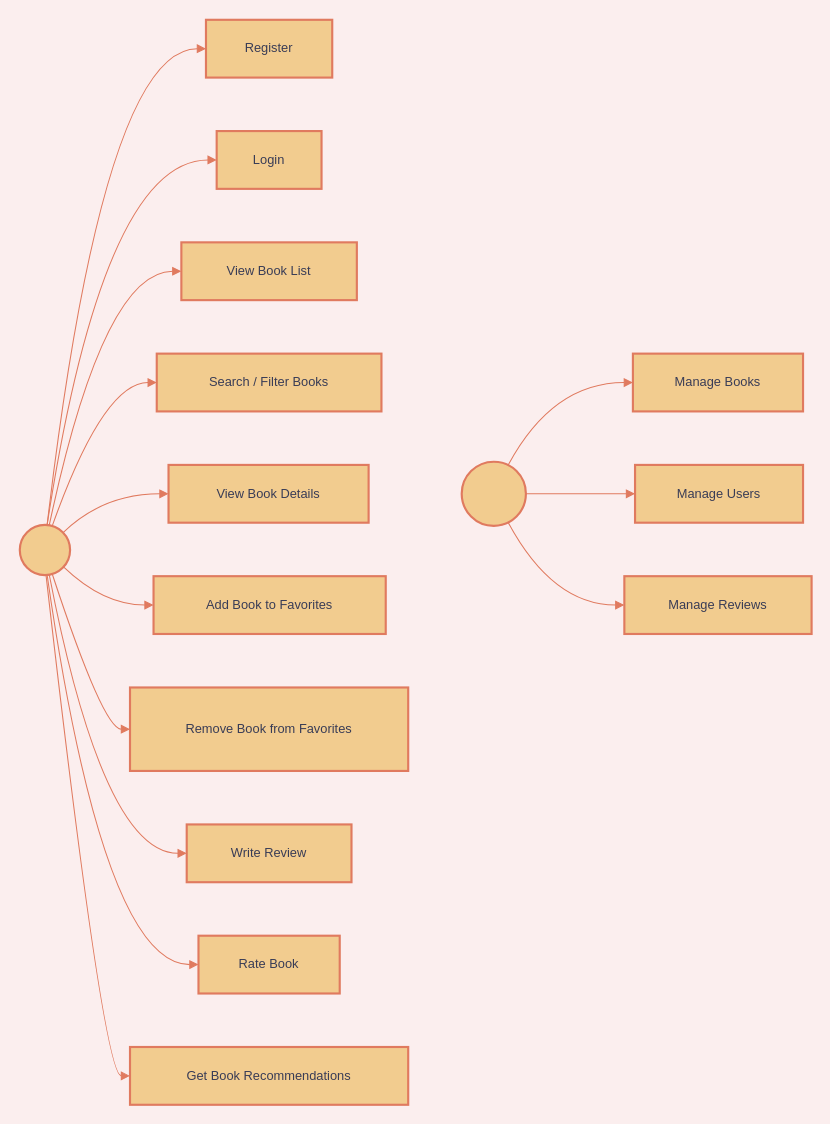
The diagram is 830 pixels wide and 1124 high, and some of its shapes have lost their labels. The shapes that lost their labels are listed below. From the top down, each one's centre as x and y in pixels, then its label:
At (493,493): "Admin".
At (44,549): "User".
